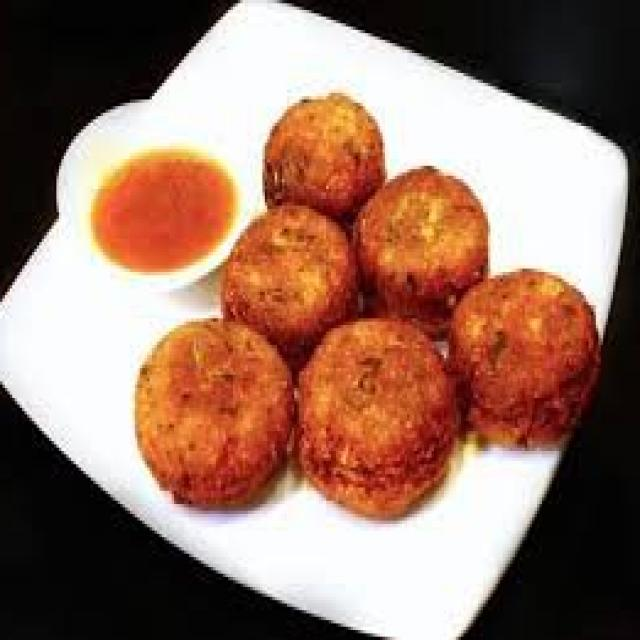Aloo Tikki: (293, 319, 455, 522), (136, 322, 293, 511), (454, 270, 597, 446), (353, 165, 489, 342), (222, 209, 363, 366), (265, 92, 385, 215)
